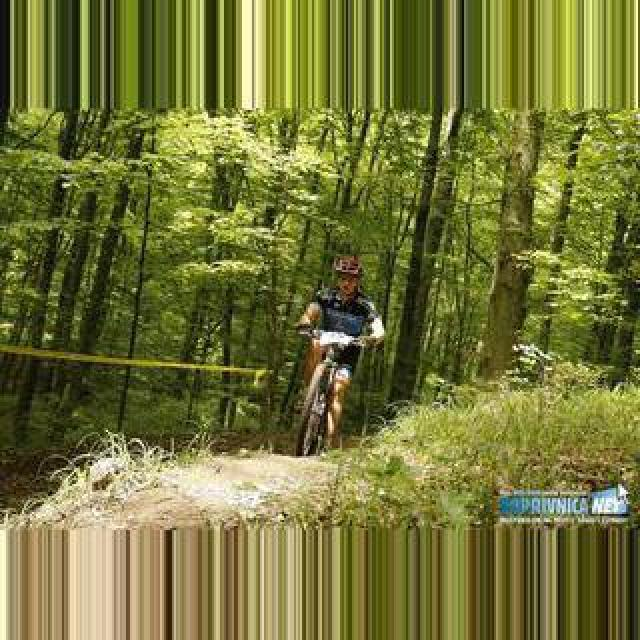MC-Bike: (290, 254, 386, 452)
Person: (293, 325, 379, 457)
